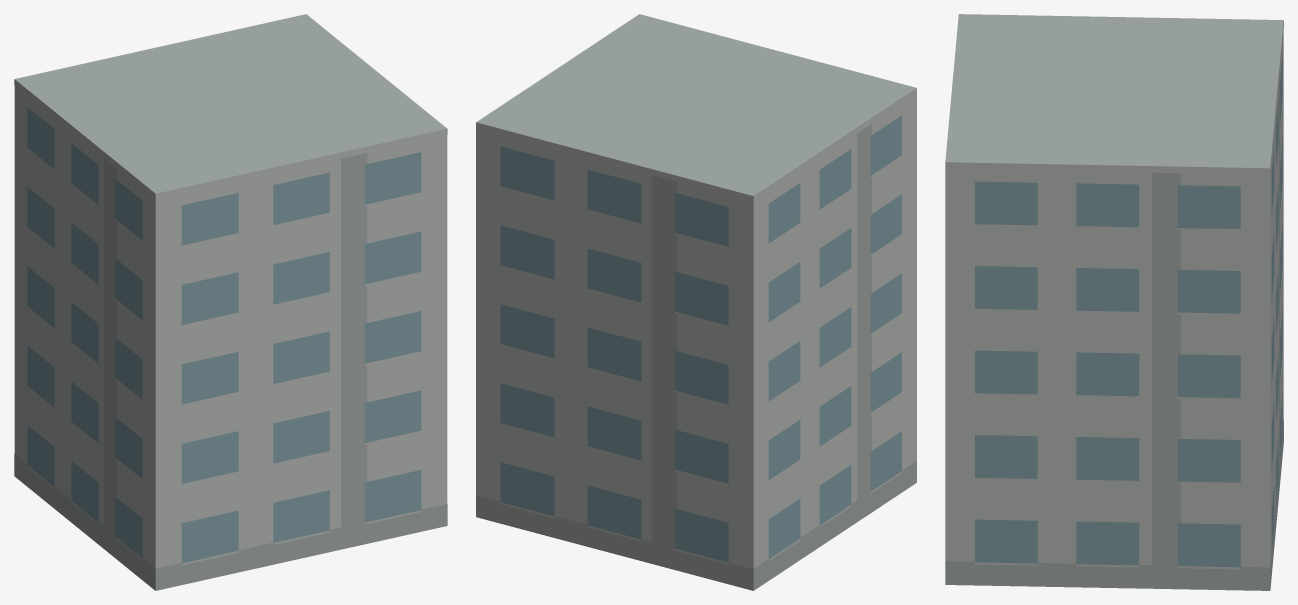
File: survey-upis-32564765.glb
3 views of the same model, side by side, from view 1: azimuth 30°, elevation 25°; view 2: azimuth 150°, elevation 25°; view 3: azimuth 270°, elevation 25° (orthographic). The views are drawn at different scales.
Visible parts, largest first — view 1: survey-upis-32564765.tmp; view 2: survey-upis-32564765.tmp; view 3: survey-upis-32564765.tmp.
Boxes of the visible parts, bbox=[...] form: survey-upis-32564765.tmp: bbox=[14, 14, 447, 590]; survey-upis-32564765.tmp: bbox=[476, 14, 916, 590]; survey-upis-32564765.tmp: bbox=[945, 14, 1283, 590].
Size of the model in its own units: 12.26 by 15.65 by 11.37.
